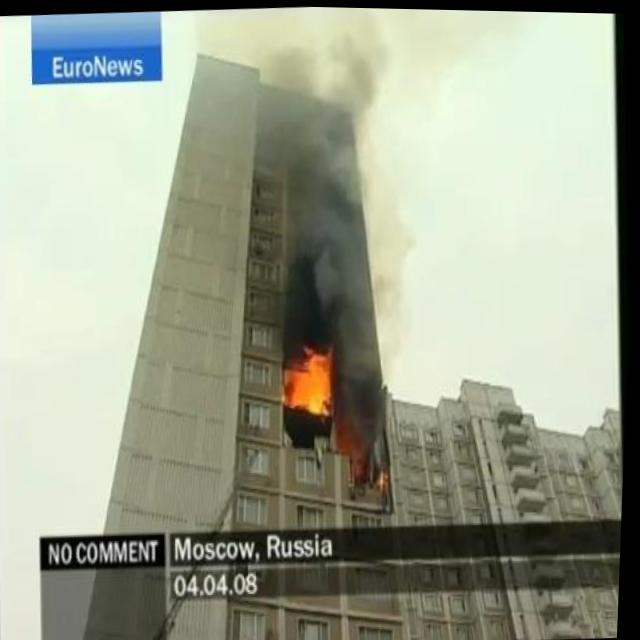fire: (281, 342, 344, 419)
